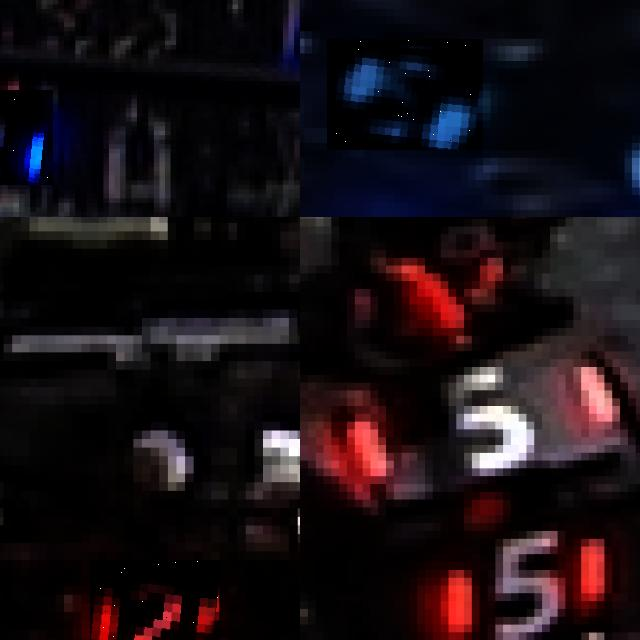B2: (0, 90, 53, 184)
B5: (327, 39, 483, 150)
R2: (90, 560, 219, 640)
R5: (440, 523, 604, 640)
